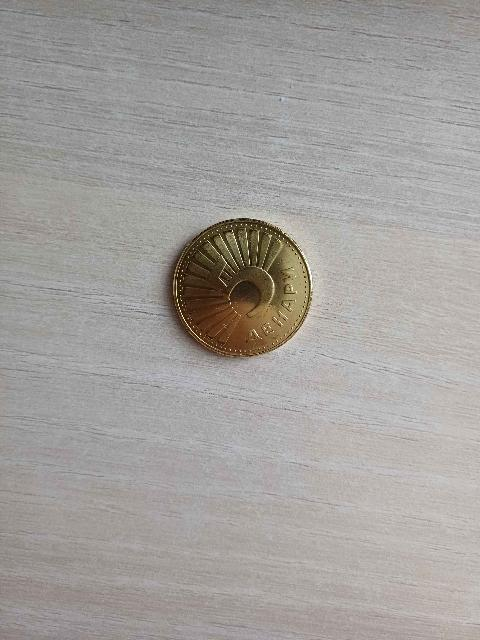coin: (174, 219, 311, 356)
